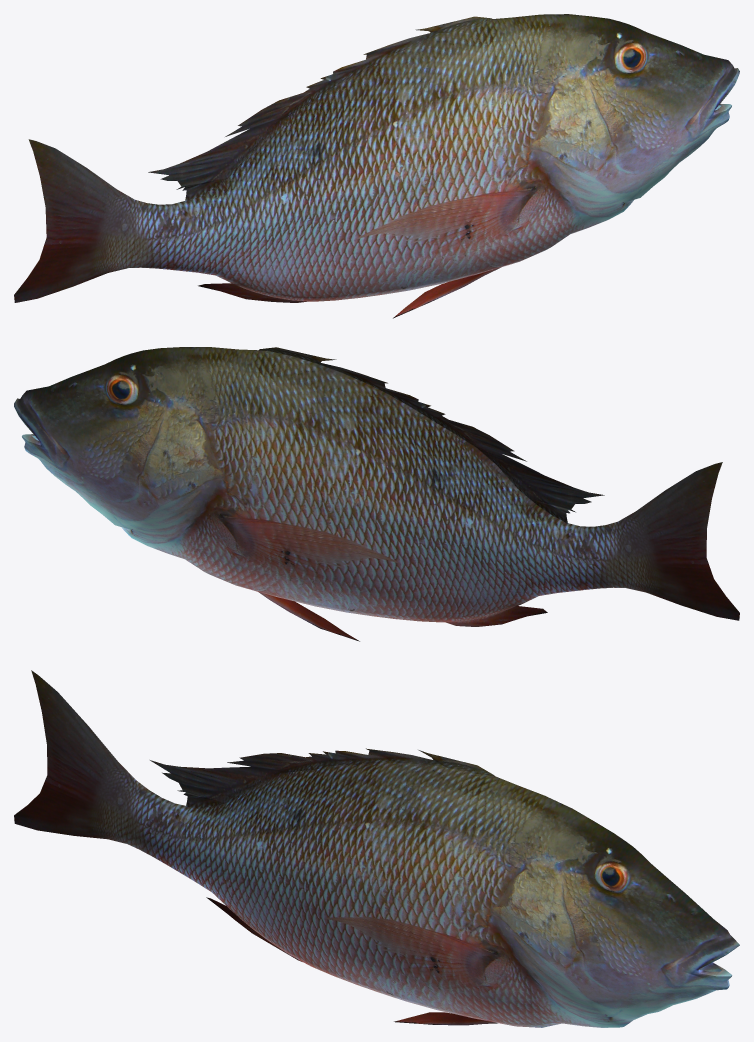
Rendered from fishOBJ.obj.
3 views of the same model, one above another, from view 1: azimuth 30°, elevation 25°; view 2: azimuth 150°, elevation 25°; view 3: azimuth 330°, elevation 25° (orthographic).
Visible parts, largest first — view 1: fishOBJ; view 2: fishOBJ; view 3: fishOBJ.
Boxes of the visible parts, bbox=[...] form: fishOBJ: bbox=[14, 14, 739, 318]; fishOBJ: bbox=[14, 347, 739, 641]; fishOBJ: bbox=[14, 670, 739, 1027].
Bounding box in the file's own units: 12.02 × 4.43 × 1.24.
